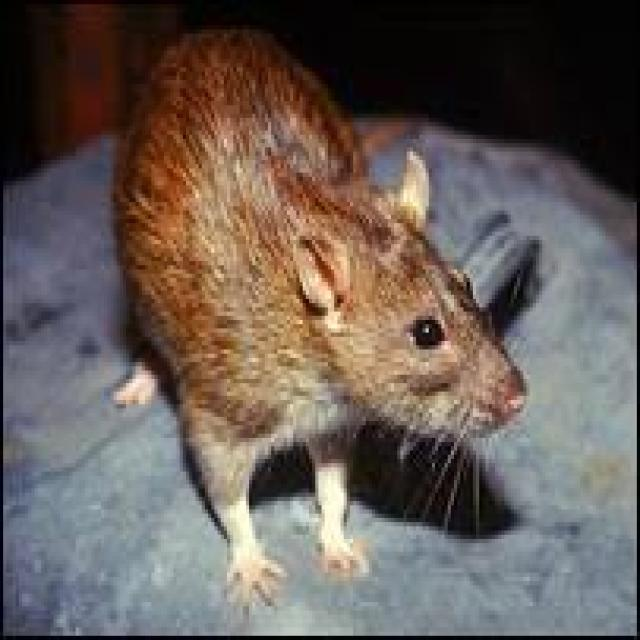Rat: (53, 14, 540, 624)
